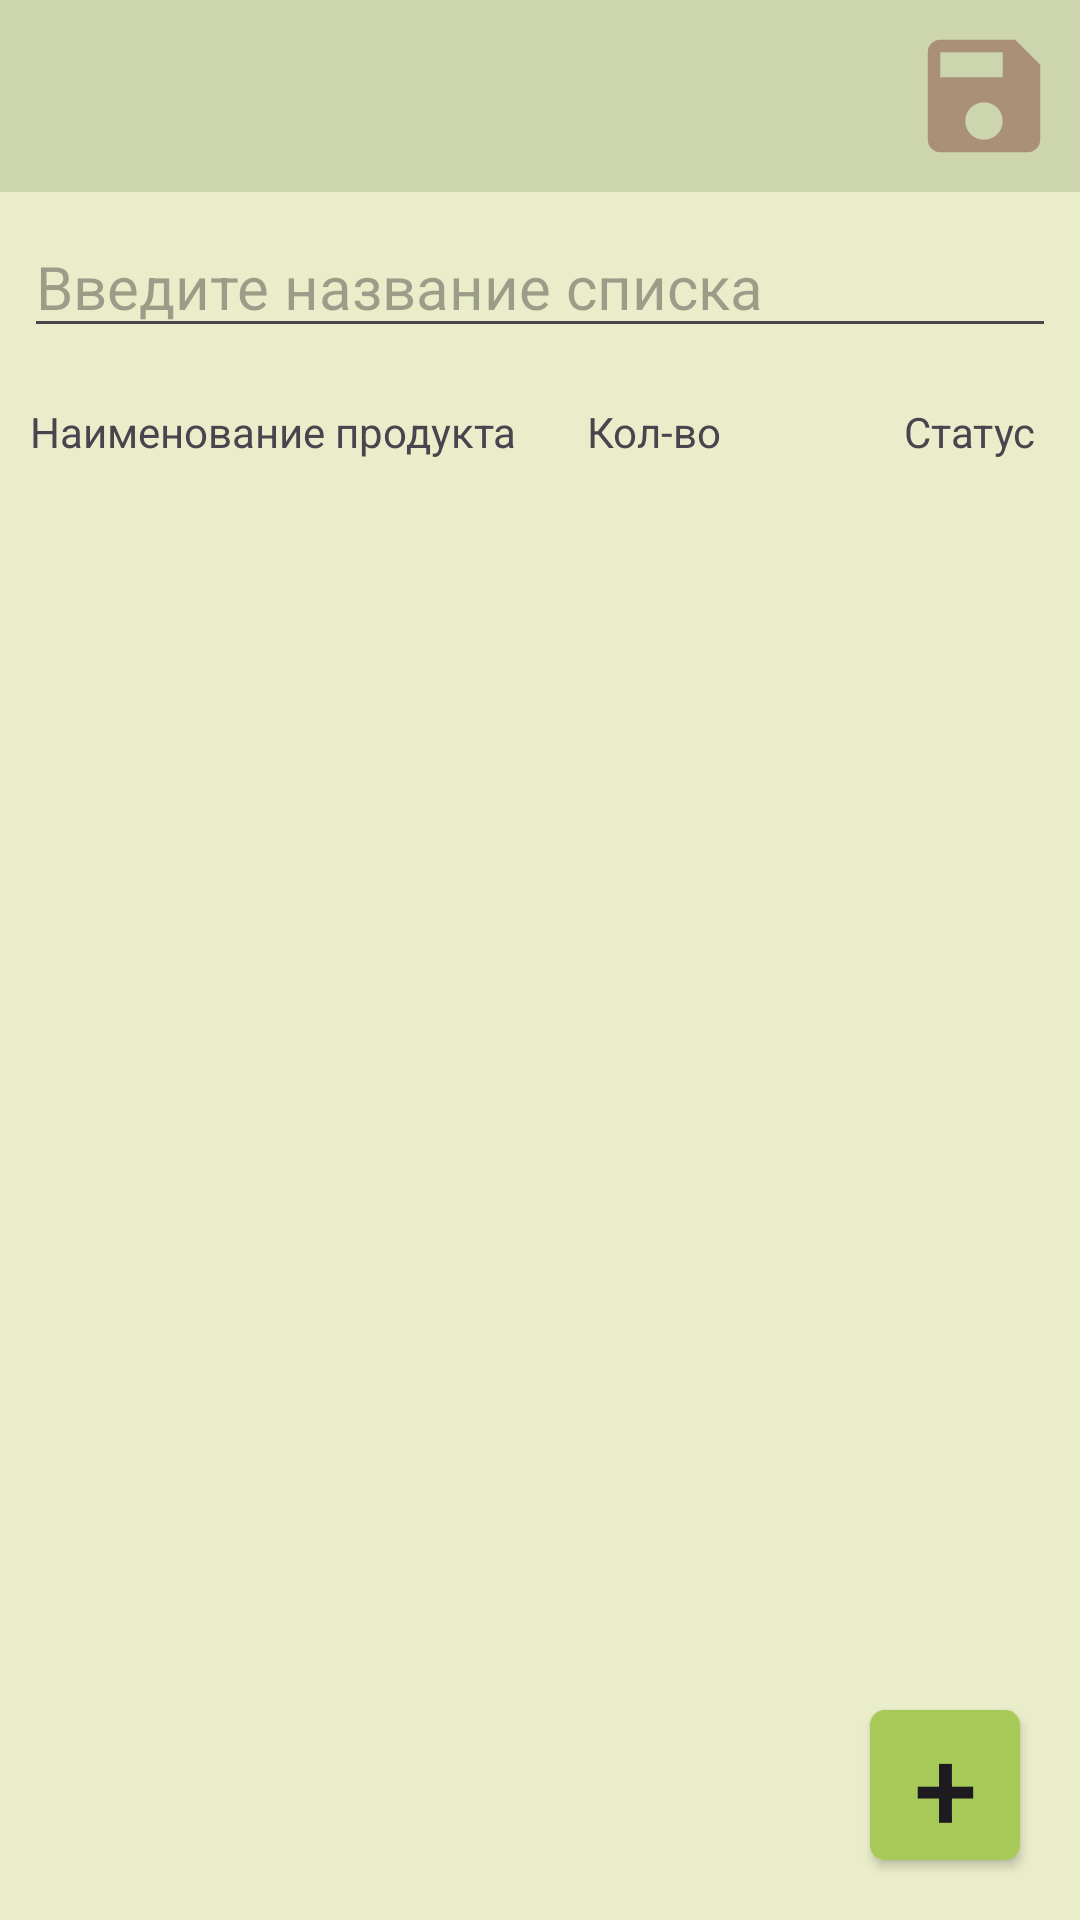

Icon click points for this 1080w x 1920h phone screenshot, format [x,y]:
save notes: [984,96]
